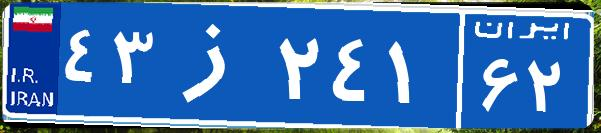1: (385, 28, 445, 110)
2: (273, 28, 330, 110), (525, 38, 570, 115)
3: (110, 28, 158, 105)
4: (330, 28, 385, 110), (57, 26, 110, 107)
6: (475, 38, 525, 113)
ز: (158, 15, 273, 115)
